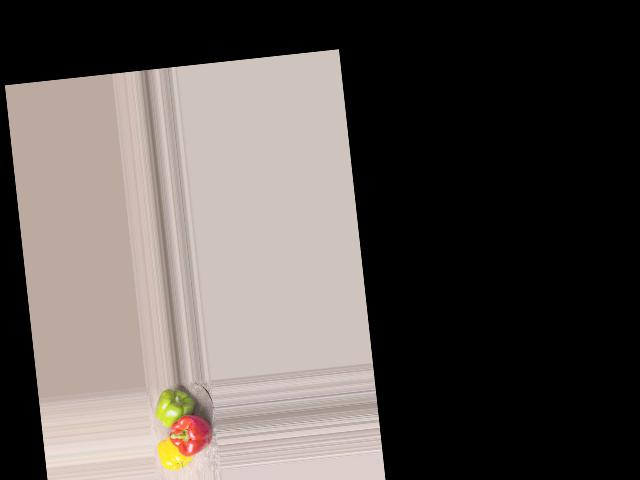bell_pepper: (155, 436, 194, 471)
